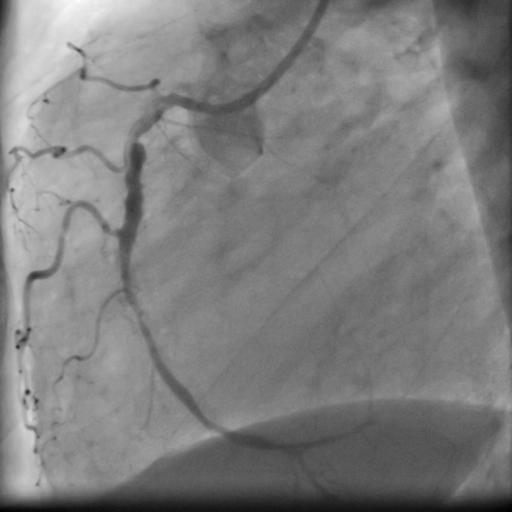Stenosis: (122, 122, 147, 148)
